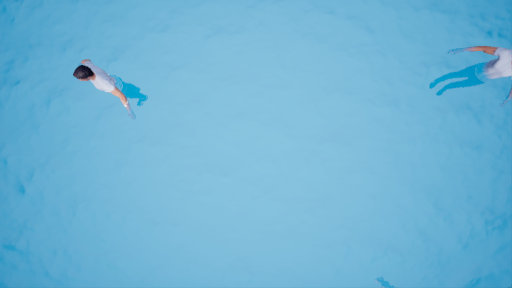person: (428, 41, 512, 108), (72, 57, 149, 122)
